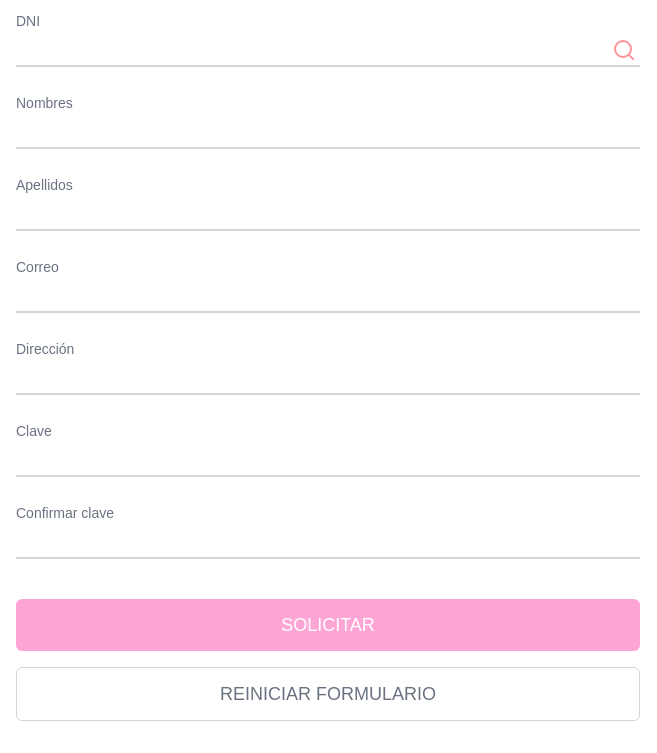
Test: Home Component › should validate password requirements
# First search DNI
In the field below "DNI": (328, 50) [16,33,640,67], type "12345678"
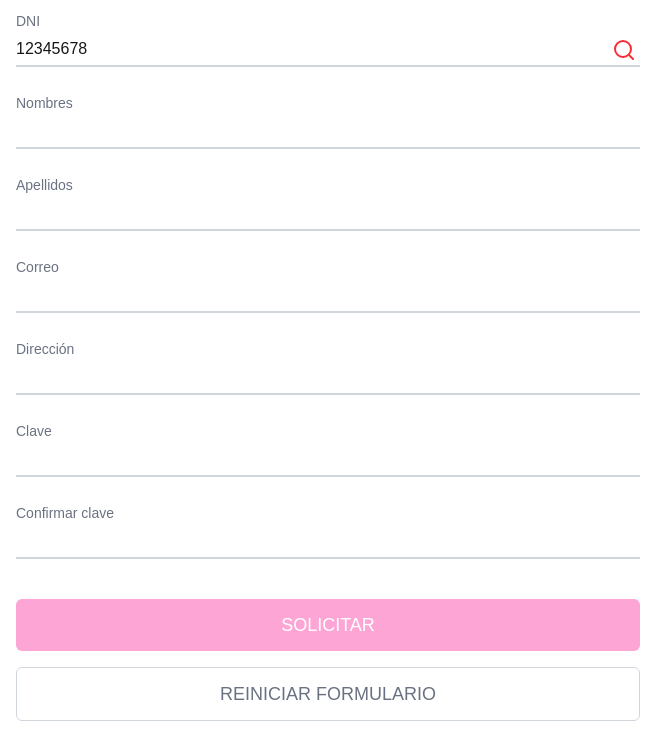
Click the 1st button: (624, 50) [608,34,640,66]
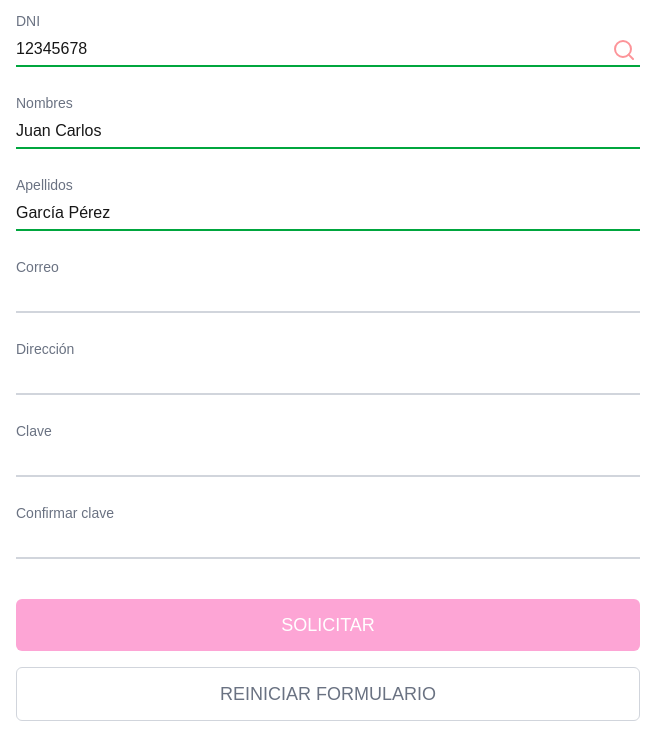
Now the field showing "Juan Carlos" below "Nombres" is shown, box [16,115,640,149]
In the 1st password field: (328, 460) [16,443,640,477], type "weak"
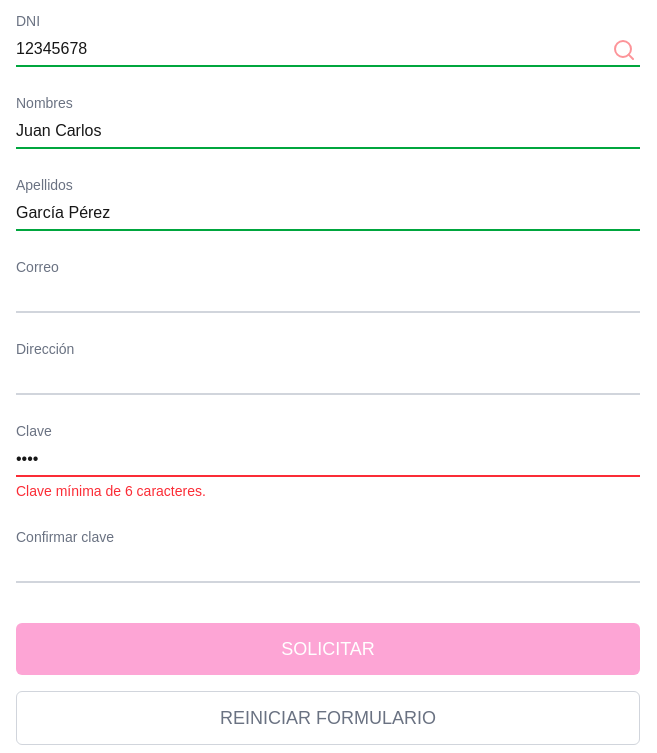
Now the text "Clave mínima de 6 caracteres." is shown, box [16,483,206,499]
